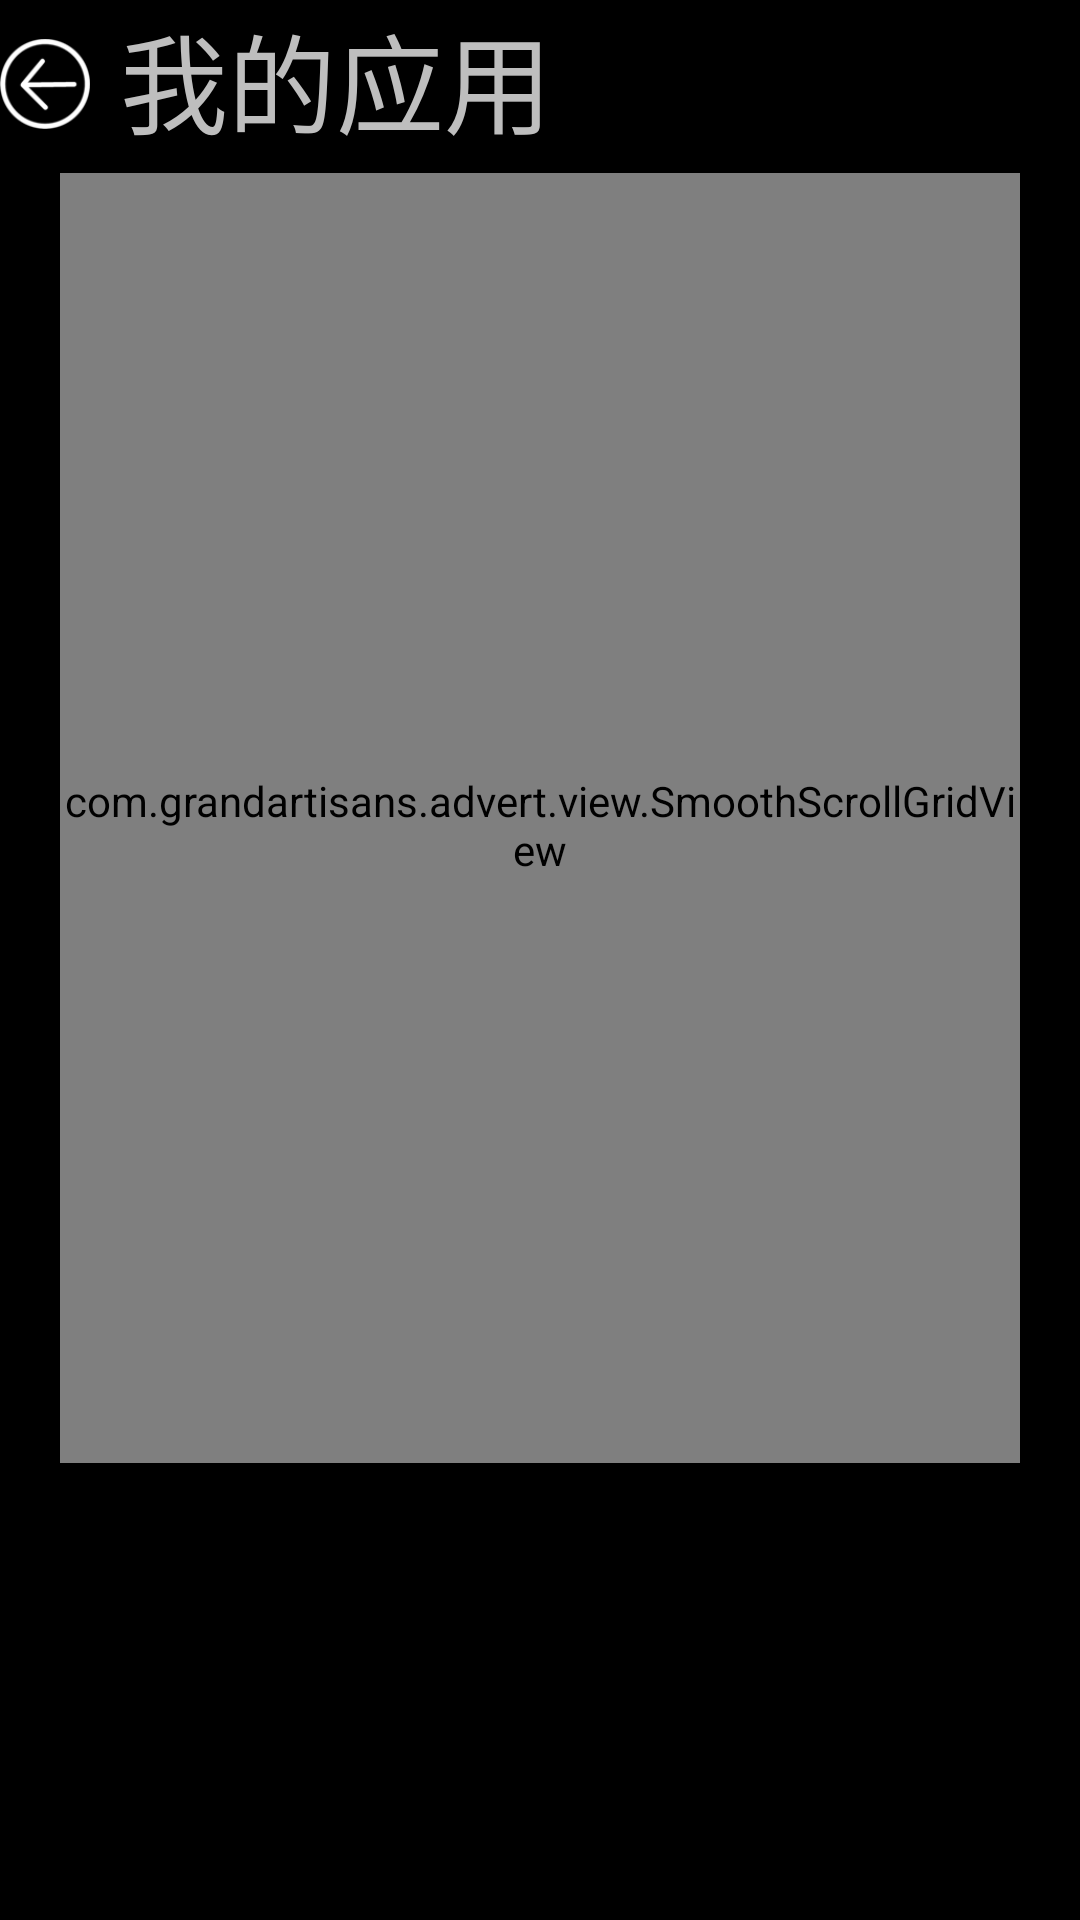

Icons on this 1080w x 1920h Android screen, each with the point to tap as point (x, y):
tip left arrow: point (45, 84)
